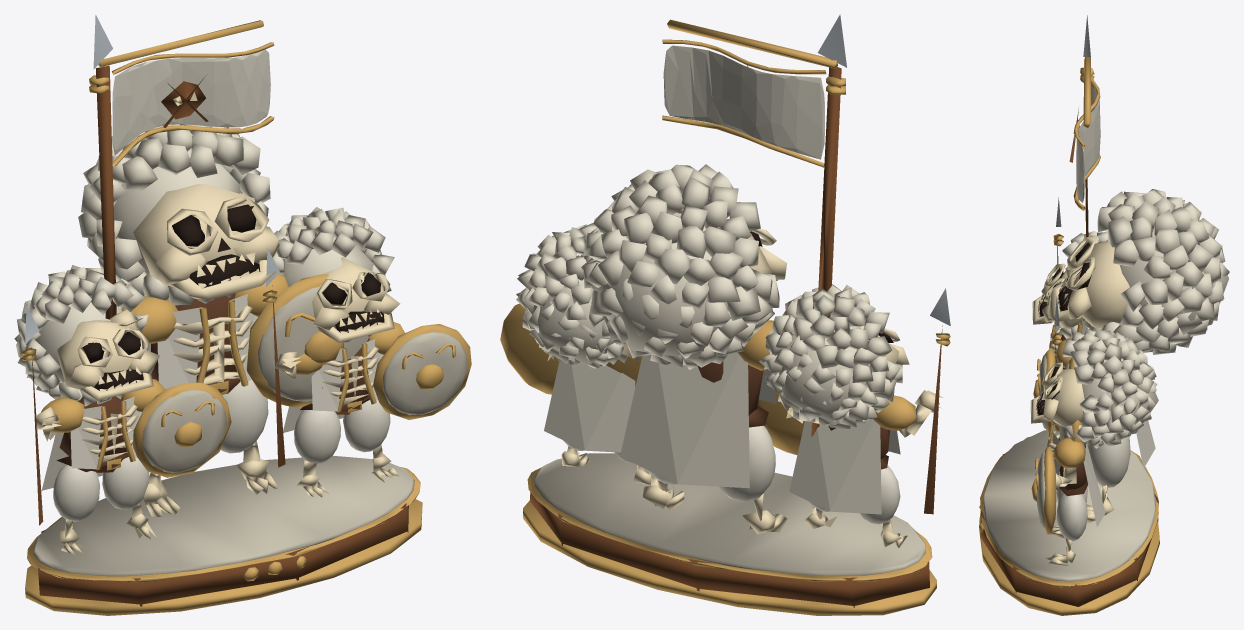
File: pirate_knight_l3.glb
3 renders of one model, left to right at view 1: azimuth 30°, elevation 25°; view 2: azimuth 150°, elevation 25°; view 3: azimuth 270°, elevation 25°, orthographic. The views are drawn at different scales.
Parts seen in each view (by area): view 1: FixedDetails, WoodBody, BrassTrim; view 2: FixedDetails, WoodBody, BrassTrim; view 3: FixedDetails, WoodBody, BrassTrim.
Boxes of the visible parts, x1=… form: FixedDetails: x1=14, y1=15, x2=408, y2=606; WoodBody: x1=33, y1=49, x2=467, y2=576; BrassTrim: x1=22, y1=20, x2=471, y2=615; FixedDetails: x1=516, y1=14, x2=950, y2=607; WoodBody: x1=534, y1=45, x2=925, y2=575; BrassTrim: x1=500, y1=19, x2=950, y2=615; FixedDetails: x1=980, y1=15, x2=1229, y2=606; WoodBody: x1=983, y1=83, x2=1155, y2=581; BrassTrim: x1=979, y1=55, x2=1159, y2=615.
Bounding box in the file's own units: 0.5859 × 0.708 × 0.3394.
